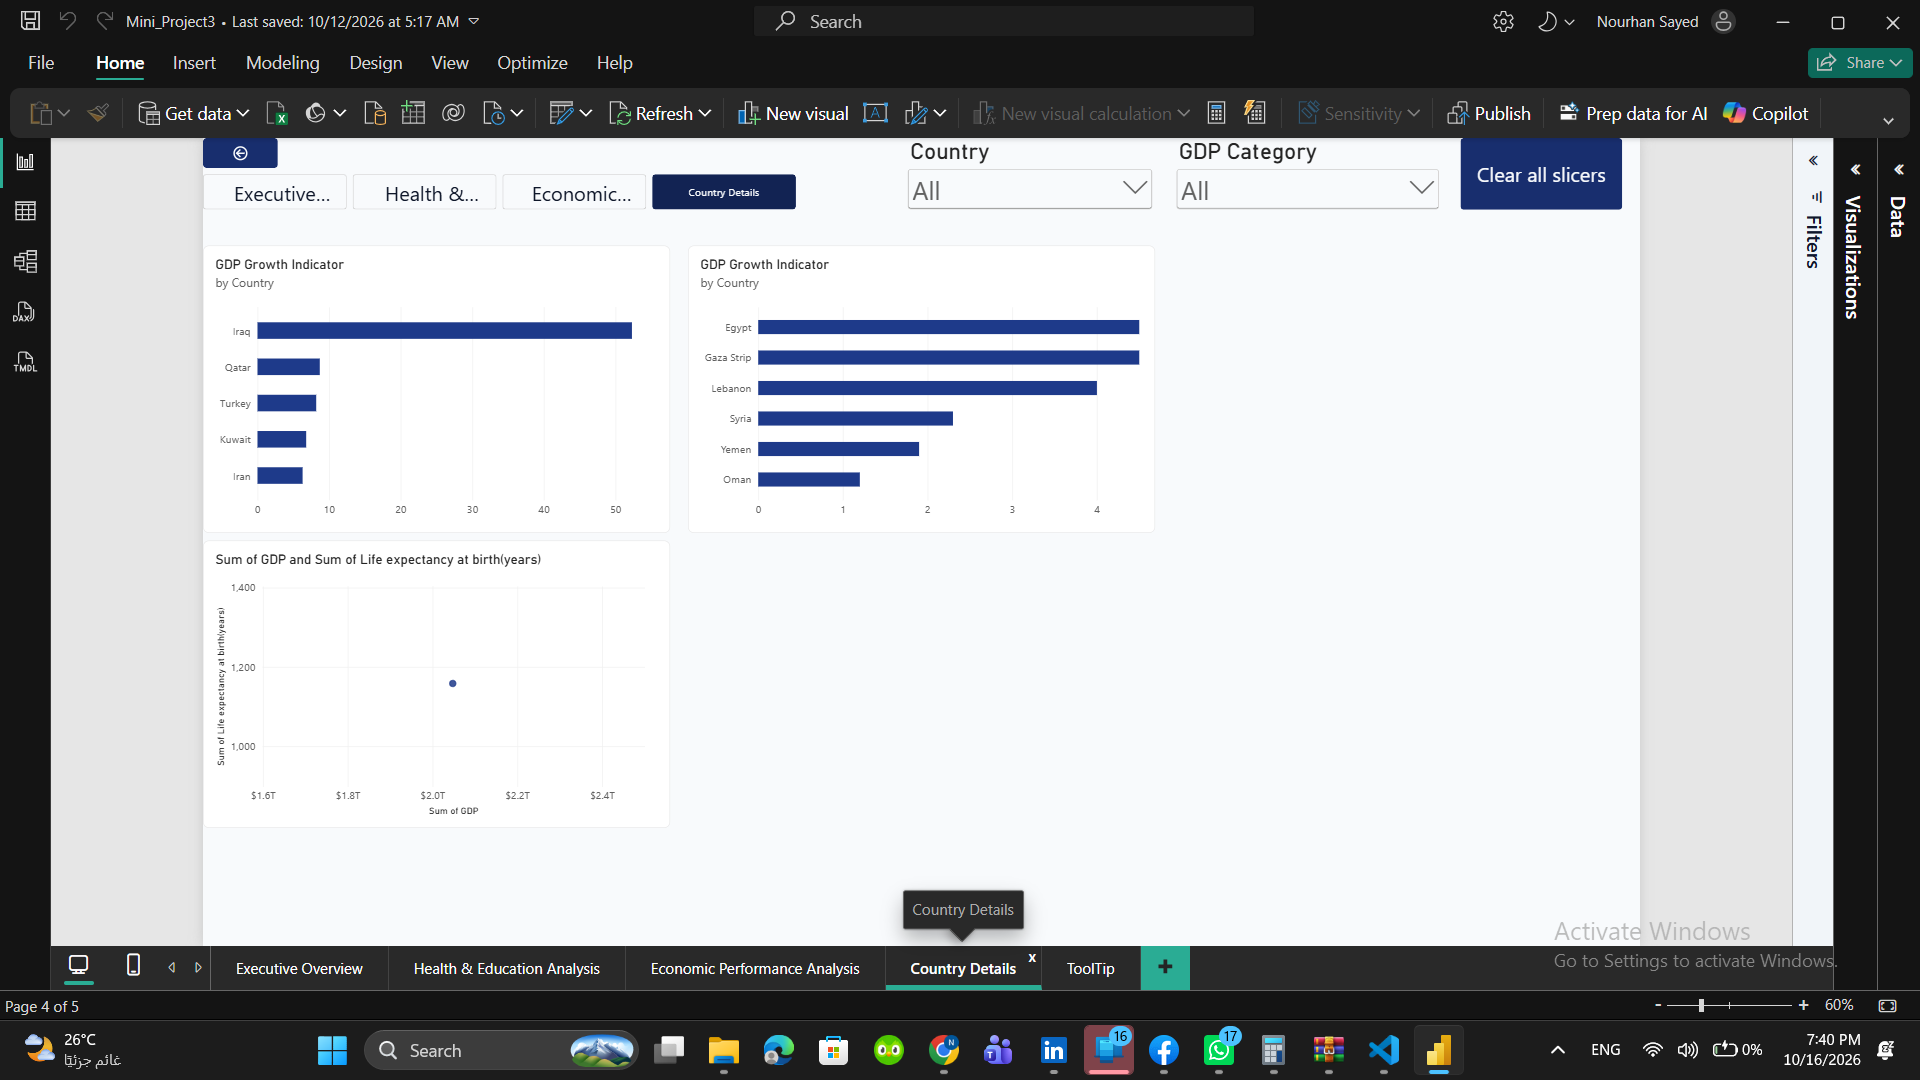

Layout of this report page (visuals, bound fields, positions):
{"tool":"powerbi","page":{"name":"Country Details","canvas":[1920,1080],"ordinal":3},"visuals":[{"type":"clusteredBarChart","fields":{"Category":["Country_Comparison.Country"],"Y":["Metrics.GDP Growth Indicator"]},"box":[0,144,624,384],"z":0},{"type":"clusteredBarChart","fields":{"Category":["Country_Comparison.Country"],"Y":["Metrics.GDP Growth Indicator"]},"box":[648,144,624,384],"z":1},{"type":"scatterChart","fields":{"X":["Sum(Country_Comparison.GDP)"],"Y":["Sum(Country_Comparison.Life expectancy at birth(years))"]},"box":[0,538,624,384],"z":2},{"type":"actionButton","box":[1680,0,216,96],"z":3},{"type":"slicer","fields":{"Values":["Country_Comparison.GDP Category"]},"box":[1296,0,360,96],"z":4},{"type":"slicer","fields":{"Values":["Country_Comparison.Country"]},"box":[936,0,336,96],"z":5},{"type":"pageNavigator","box":[0,48,792,48],"z":6},{"type":"actionButton","box":[0,0,100,40],"z":7}]}

Visuals, with their boxes on the page's 1920x1080 design canvas (x1, y1, x2, y2). These are canvas units, not pixel positions in the 1920x1080 screenshot, which may show the page scaled, cropped or inside an application window:
clusteredBarChart - Country_Comparison.Country x Metrics.GDP Growth Indicator: 0, 144, 624, 528
clusteredBarChart - Country_Comparison.Country x Metrics.GDP Growth Indicator: 648, 144, 1272, 528
scatterChart - Sum(Country_Comparison.GDP) x Sum(Country_Comparison.Life expectancy at birth(years)): 0, 538, 624, 922
actionButton: 1680, 0, 1896, 96
slicer - Country_Comparison.GDP Category: 1296, 0, 1656, 96
slicer - Country_Comparison.Country: 936, 0, 1272, 96
pageNavigator: 0, 48, 792, 96
actionButton: 0, 0, 100, 40
